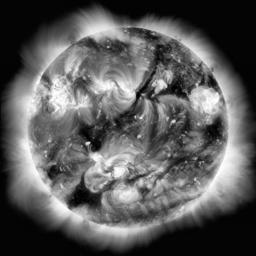solar flares: (90, 150, 124, 181), (189, 86, 215, 114), (49, 79, 67, 116), (105, 186, 140, 205), (93, 75, 114, 96), (118, 82, 139, 103), (75, 98, 92, 113)
sunspots: (71, 180, 98, 207), (78, 123, 100, 152), (87, 39, 121, 55), (161, 79, 185, 98), (136, 27, 156, 46), (204, 122, 223, 141), (153, 45, 165, 67), (49, 165, 60, 178)
